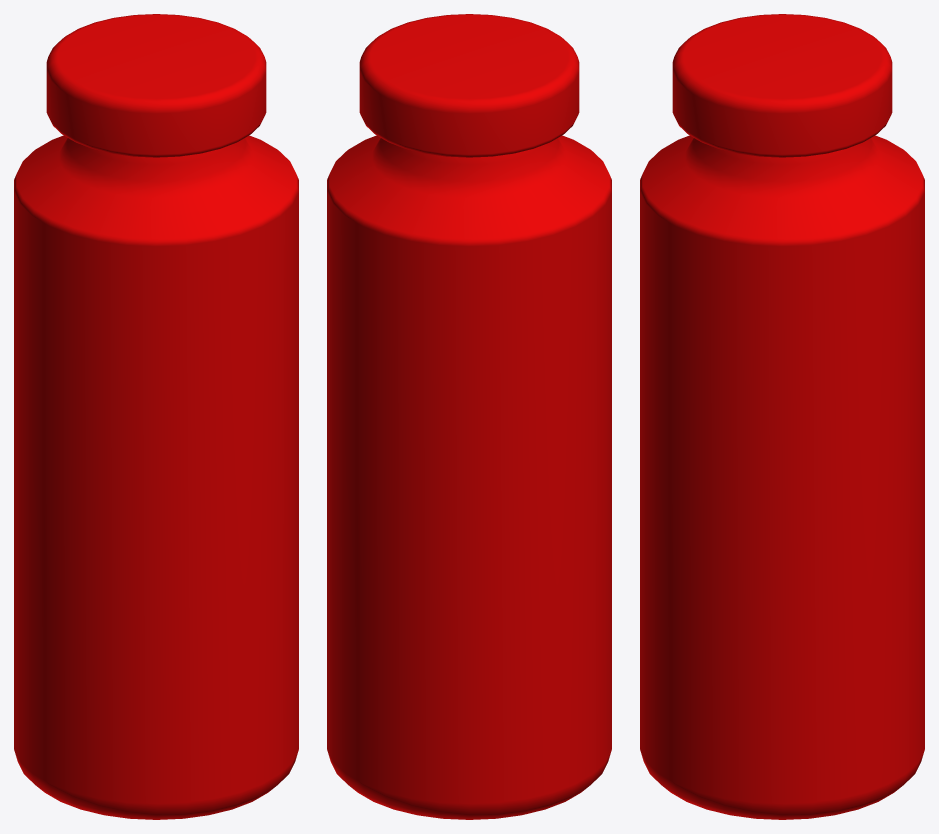
File: Package_8.fbx
3 renders of one model, left to right at view 1: azimuth 30°, elevation 25°; view 2: azimuth 150°, elevation 25°; view 3: azimuth 270°, elevation 25°, orthographic.
Parts seen in each view (by area): view 1: L10:polySurface12; view 2: L10:polySurface12; view 3: L10:polySurface12.
Part boxes in pixels (<box>): L10:polySurface12: <box>14,14,298,819</box>; L10:polySurface12: <box>327,14,611,819</box>; L10:polySurface12: <box>640,14,924,819</box>.
Bounding box in the file's own units: 8.05 × 22.08 × 8.01.
